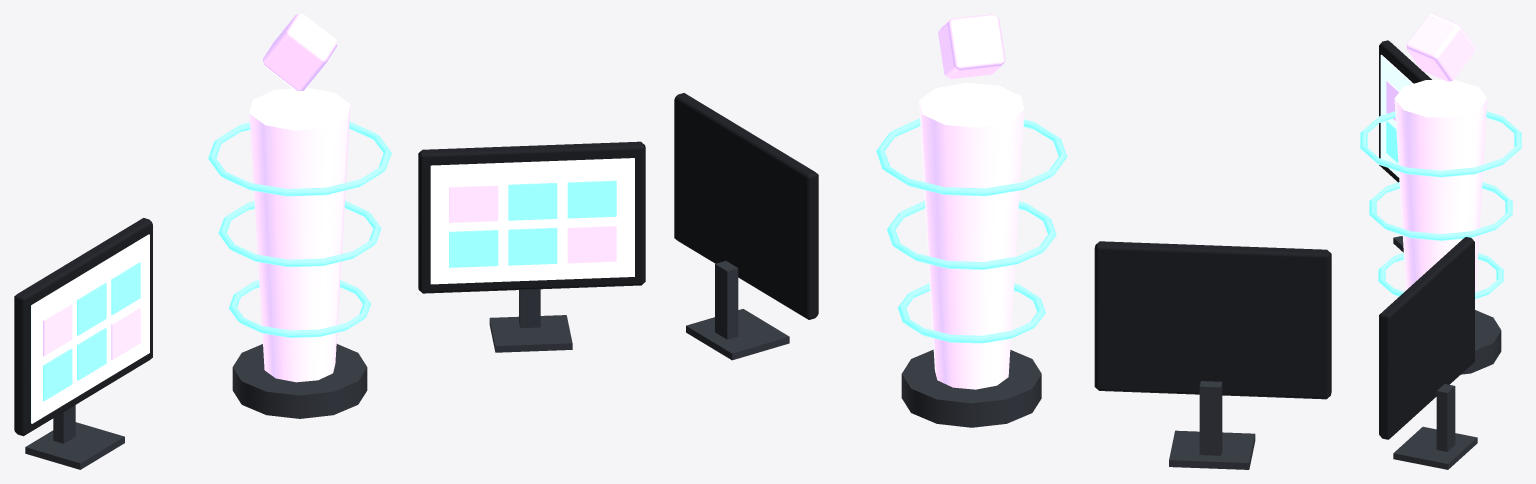
File: station_processing_ausstattung_1_3.glb
3 views of the same model, side by side, from view 1: azimuth 30°, elevation 25°; view 2: azimuth 150°, elevation 25°; view 3: azimuth 270°, elevation 25° (orthographic). The views are drawn at different scales.
Visible parts, largest first — view 1: station_processing_ausstattung_1_3; view 2: station_processing_ausstattung_1_3; view 3: station_processing_ausstattung_1_3.
Boxes of the visible parts, box(x1,y1,x2,y2) form: station_processing_ausstattung_1_3: box(14, 14, 645, 469); station_processing_ausstattung_1_3: box(674, 14, 1331, 469); station_processing_ausstattung_1_3: box(1360, 14, 1521, 469).
Size of the model in its own units: 1.4 by 0.7839 by 0.3471.
